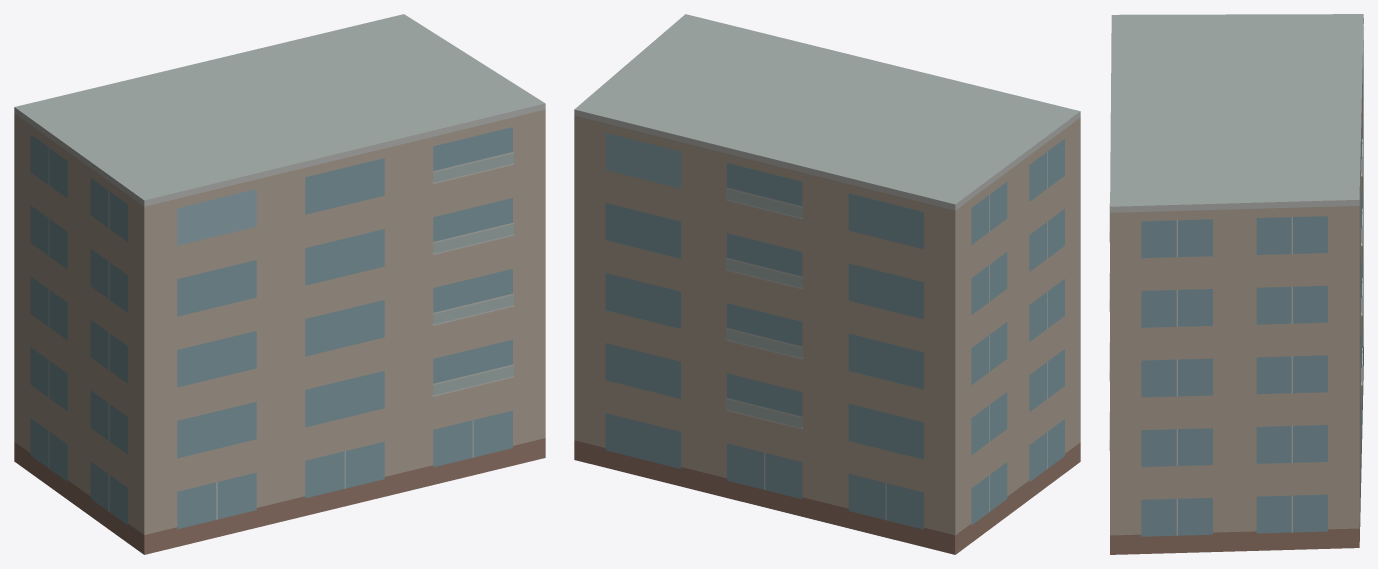
File: survey-upis-33038595.glb
The picture shows the model from 3 angles, left to right: view 1: azimuth 30°, elevation 25°; view 2: azimuth 150°, elevation 25°; view 3: azimuth 270°, elevation 25°; orthographic projection.
Visible parts, largest first — view 1: survey-upis-33038595.tmp; view 2: survey-upis-33038595.tmp; view 3: survey-upis-33038595.tmp.
Boxes of the visible parts, x1=… form: survey-upis-33038595.tmp: x1=14, y1=14, x2=545, y2=554; survey-upis-33038595.tmp: x1=574, y1=14, x2=1080, y2=554; survey-upis-33038595.tmp: x1=1109, y1=14, x2=1363, y2=554.
Bounding box in the file's own units: 16.69 × 14.05 × 9.32.
